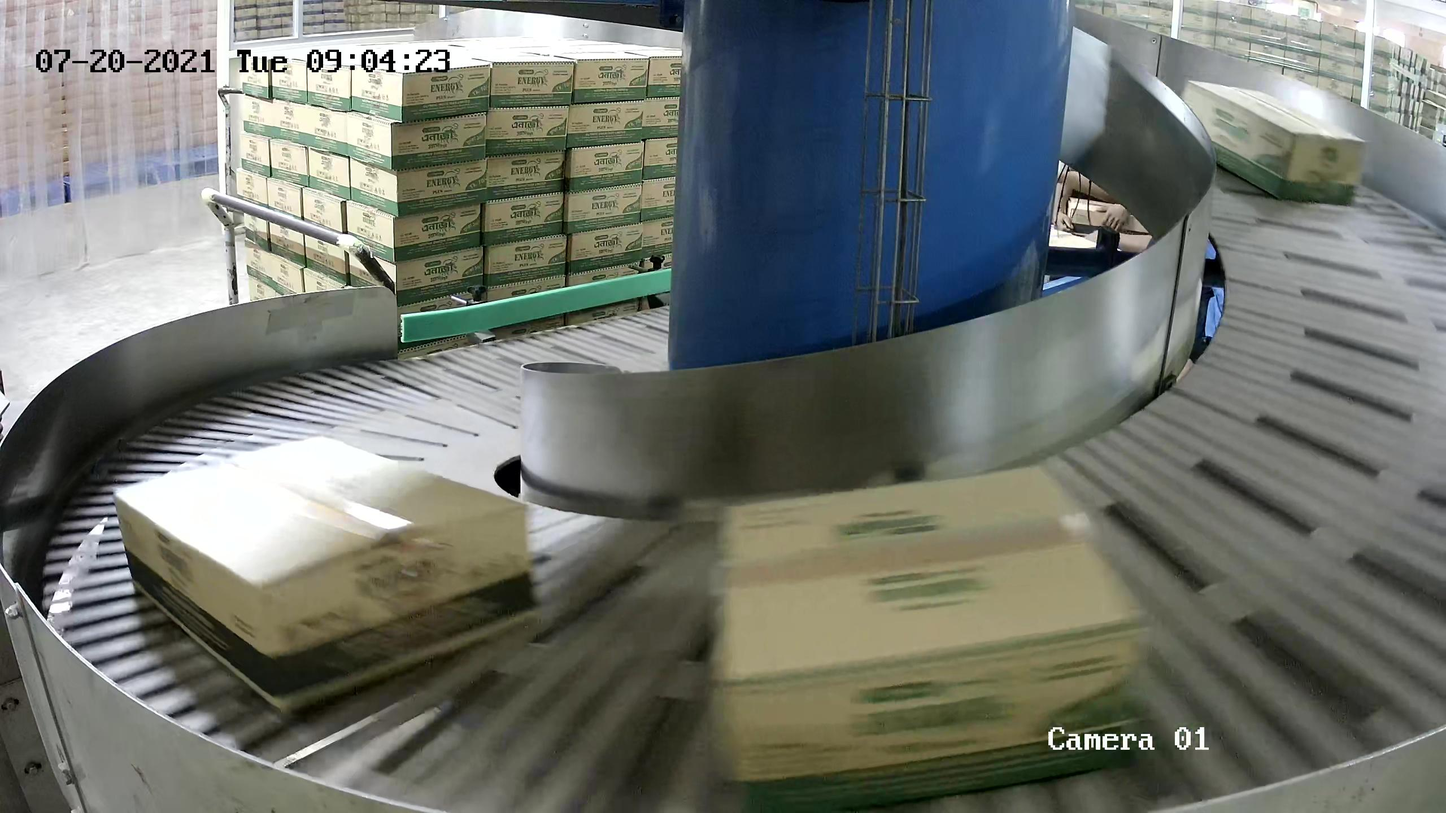Box: (704, 457, 1158, 813), (111, 431, 544, 715), (1179, 78, 1368, 205)
